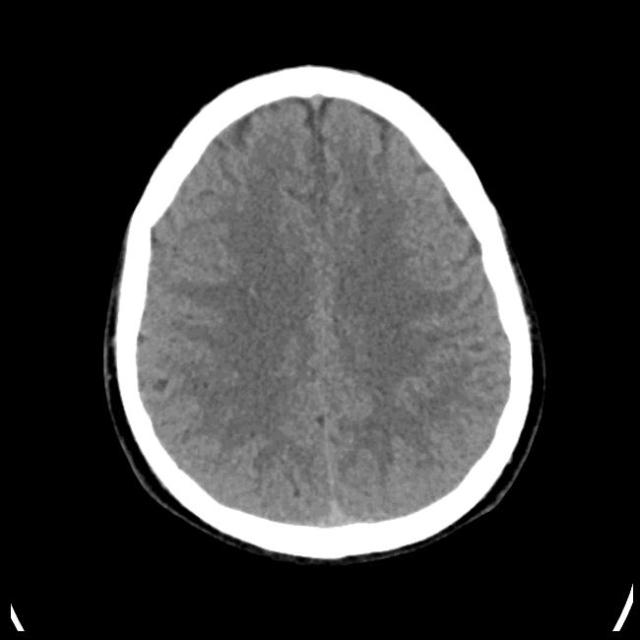lesion: (104, 64, 544, 562)
